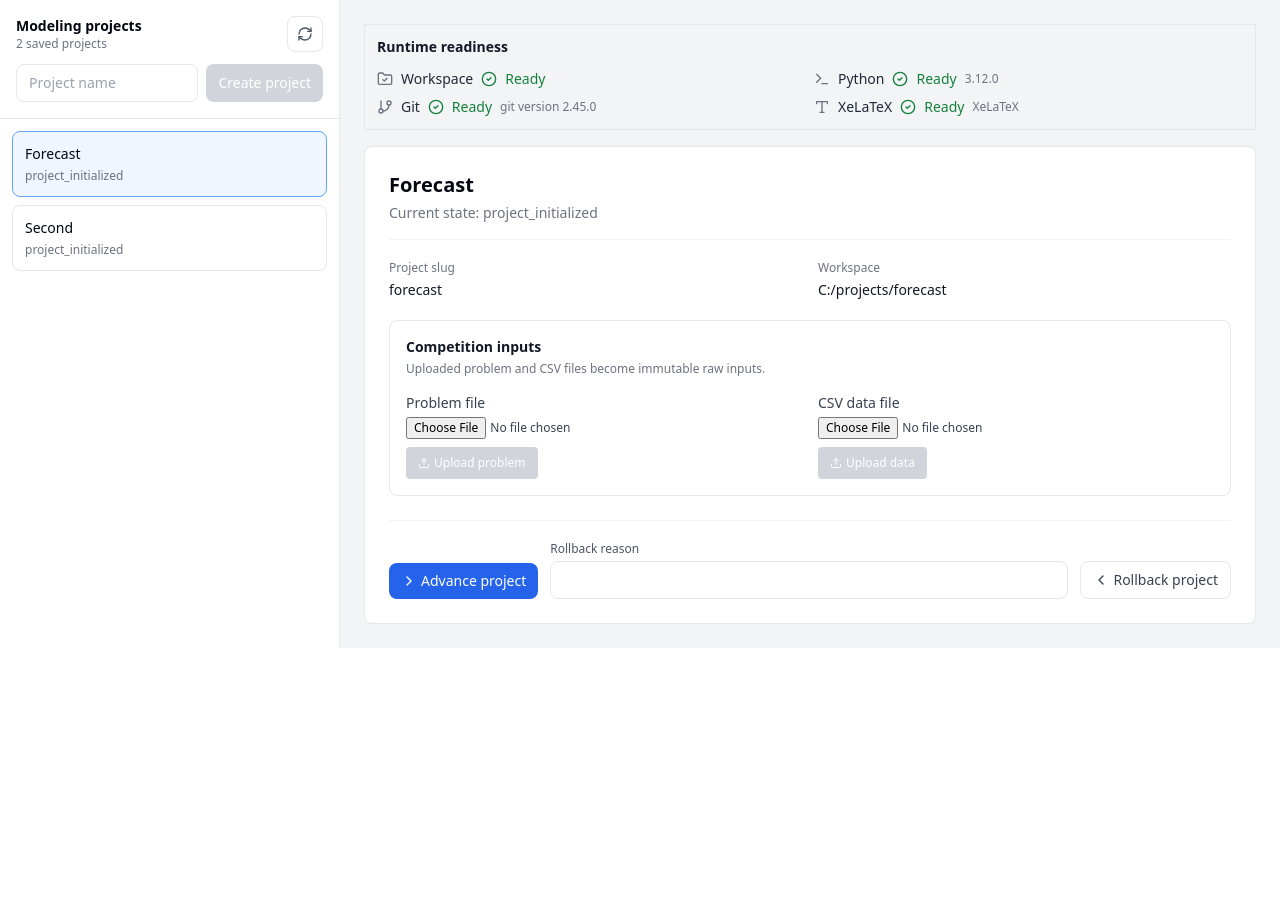
ModelingProjectsView › ignores an out-of-order evidence response from the previous project
The image size is (1280, 900).
Expected: the heading "Forecast" is shown, x1=389 y1=171 x2=474 y2=198
Click the button "Second project_initialized" at (49, 228), box x1=12 y1=205 x2=327 y2=271
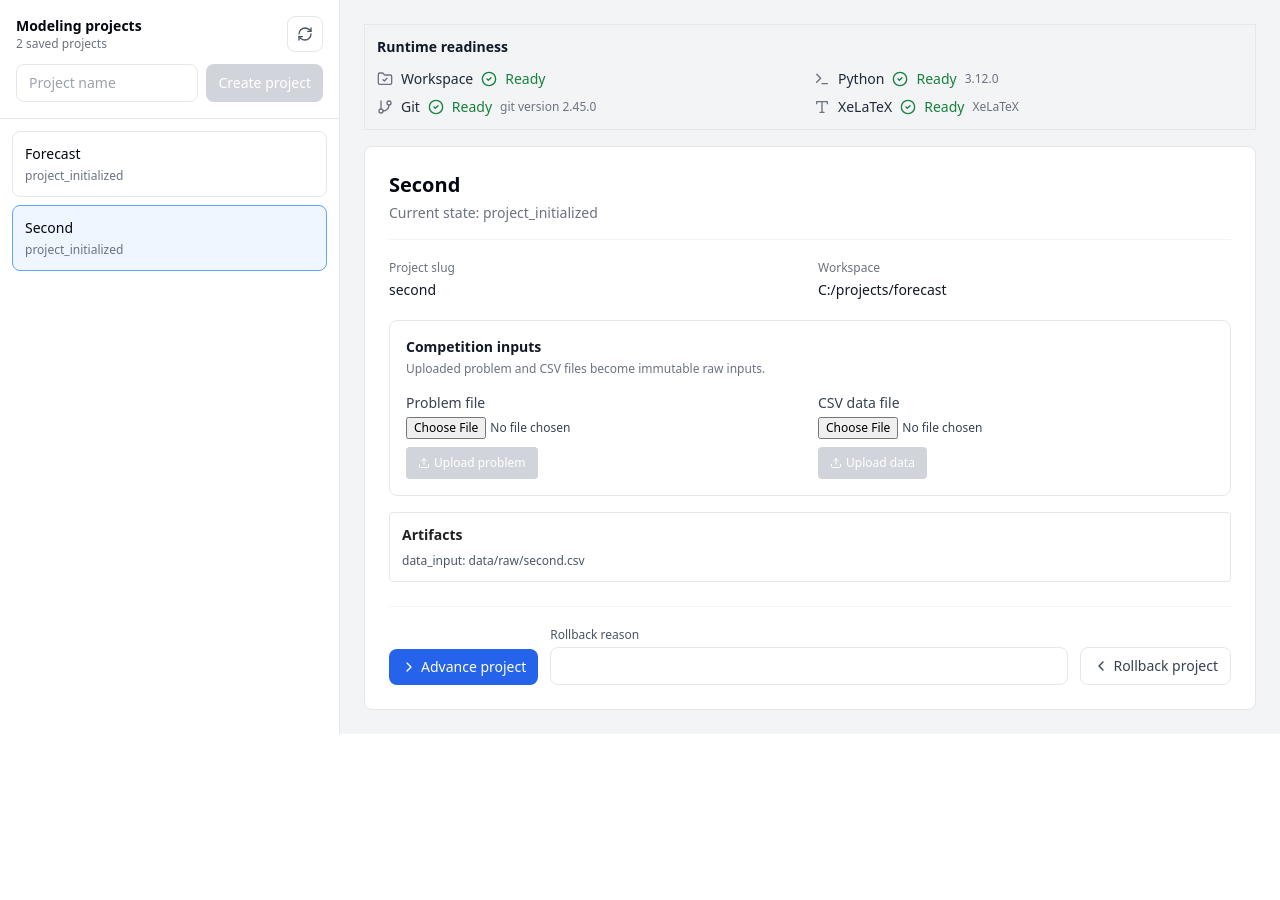
Result: the heading "Second" is shown at x1=389 y1=171 x2=460 y2=198
Result: the list item "data_input: data/raw/second.csv" is shown at x1=402 y1=552 x2=585 y2=569
